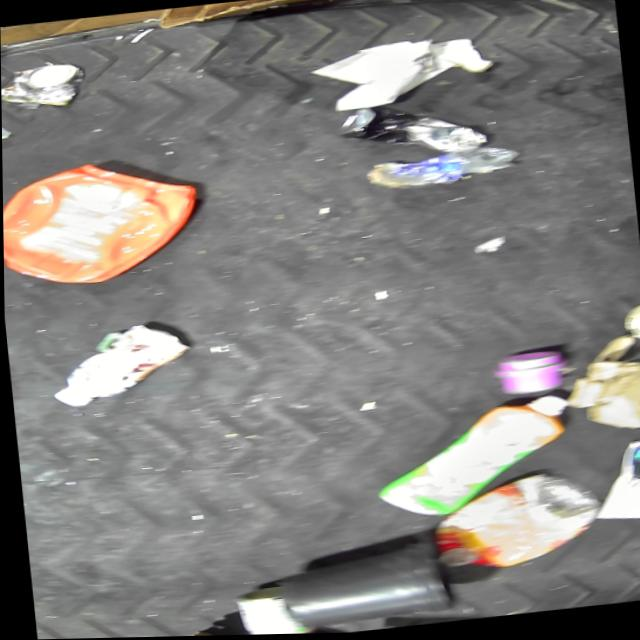can: (331, 98, 489, 168), (1, 57, 89, 113), (228, 581, 312, 636), (616, 303, 640, 347)
non_white_jug: (2, 151, 209, 293)
plastic_bottle: (359, 143, 523, 196)
